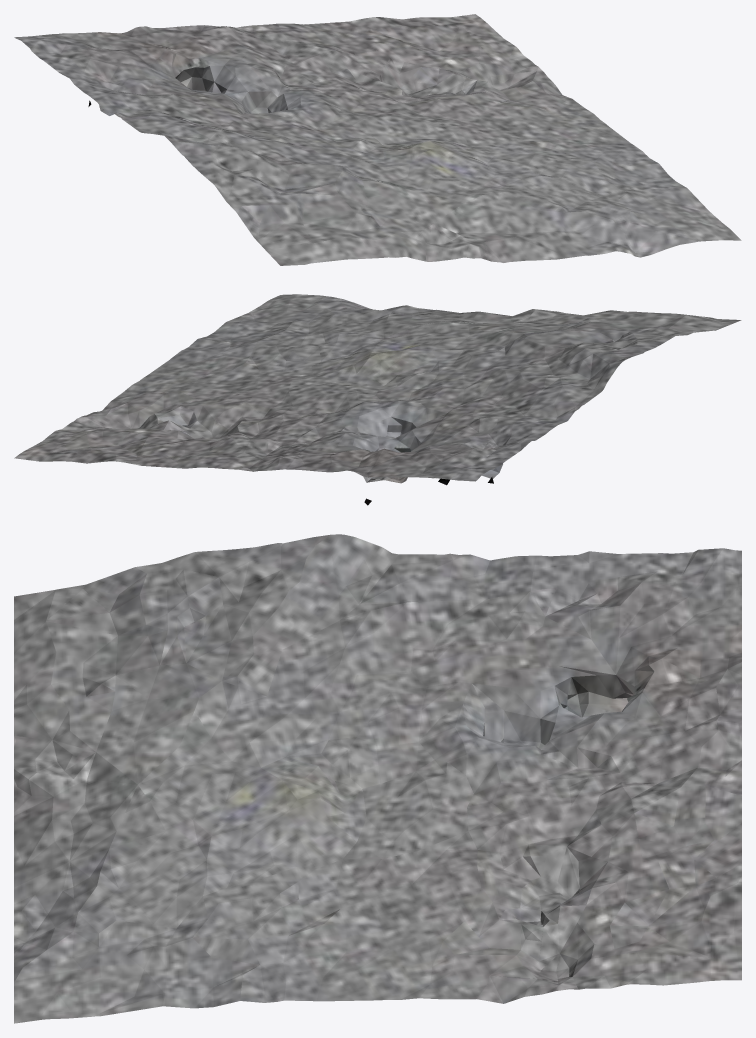
The picture shows the model from 3 angles, top to bottom: view 1: azimuth 30°, elevation 25°; view 2: azimuth 150°, elevation 25°; view 3: azimuth 270°, elevation 25°; orthographic projection. The views are drawn at different scales.
Bounding box in the file's own units: 0.8373 × 0.2304 × 0.8373.
Materials: 3 (3 with a texture image).
